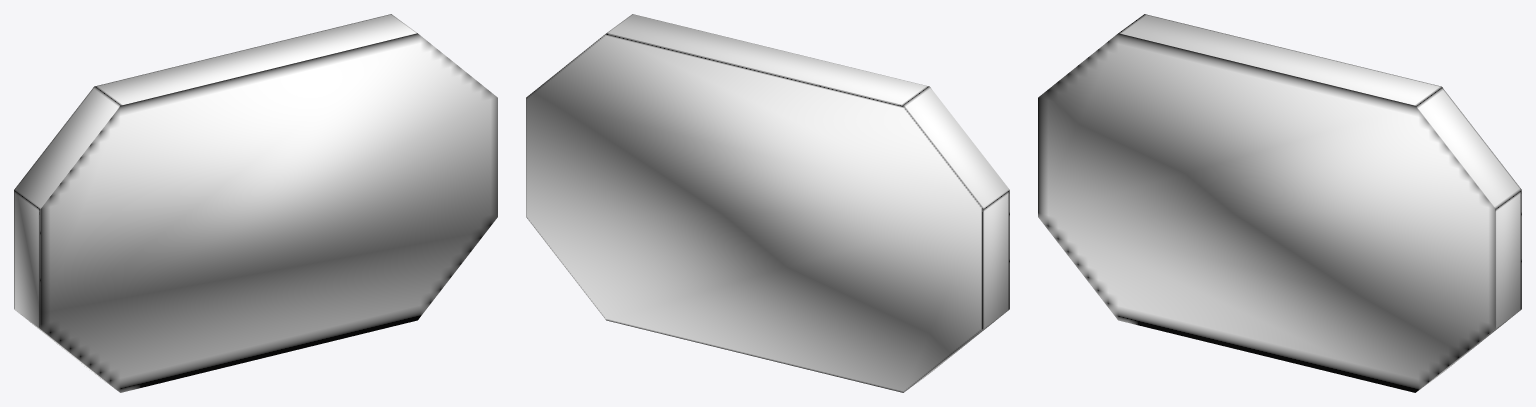
File: card_reader.obj
The picture shows the model from 3 angles, left to right: view 1: azimuth 30°, elevation 25°; view 2: azimuth 150°, elevation 25°; view 3: azimuth 330°, elevation 25°; orthographic projection.
Parts seen in each view (by area): view 1: cube1; view 2: cube1; view 3: cube1.
Boxes of the visible parts, left/top/right/bottom form: cube1: left=14, top=14, right=497, bottom=392; cube1: left=526, top=14, right=1009, bottom=392; cube1: left=1038, top=14, right=1521, bottom=392.
Bounding box in the file's own units: 1 × 0.6 × 0.1.
1 material, 1 textured.
